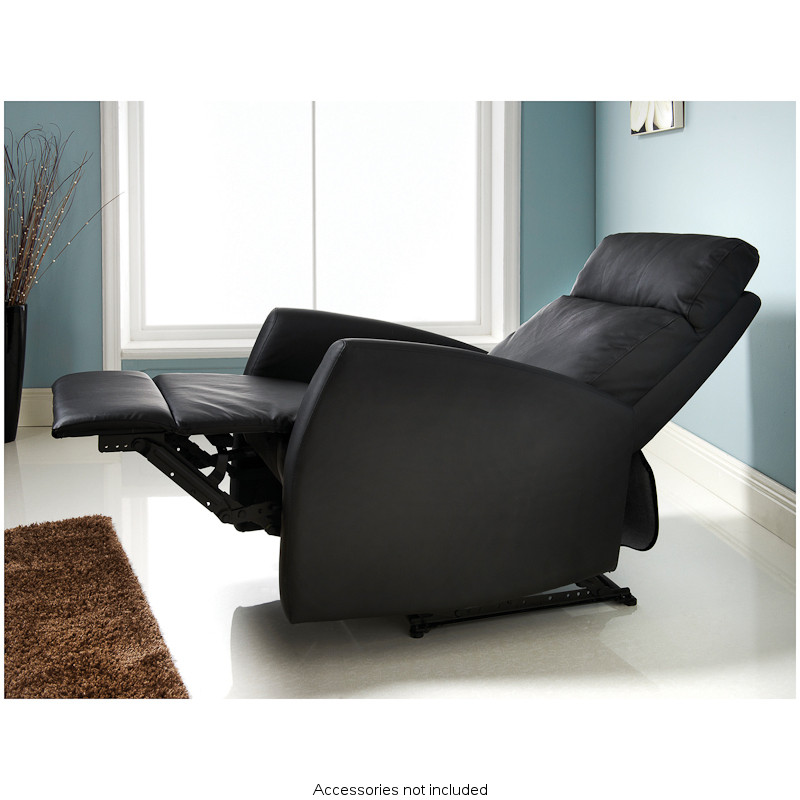chairs: (48, 229, 766, 639)
